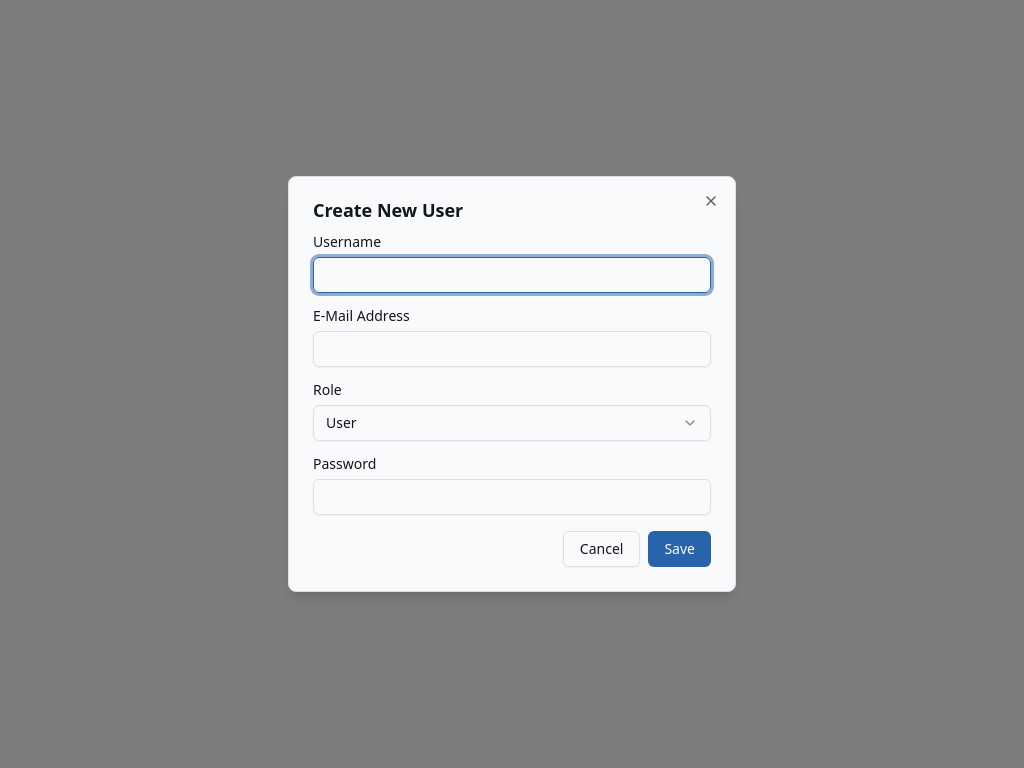
UserFormDialog › maps field errors from the api onto the fields
Type "carol" into the field labelled "Username" at (512, 275), box [313,257,711,293]
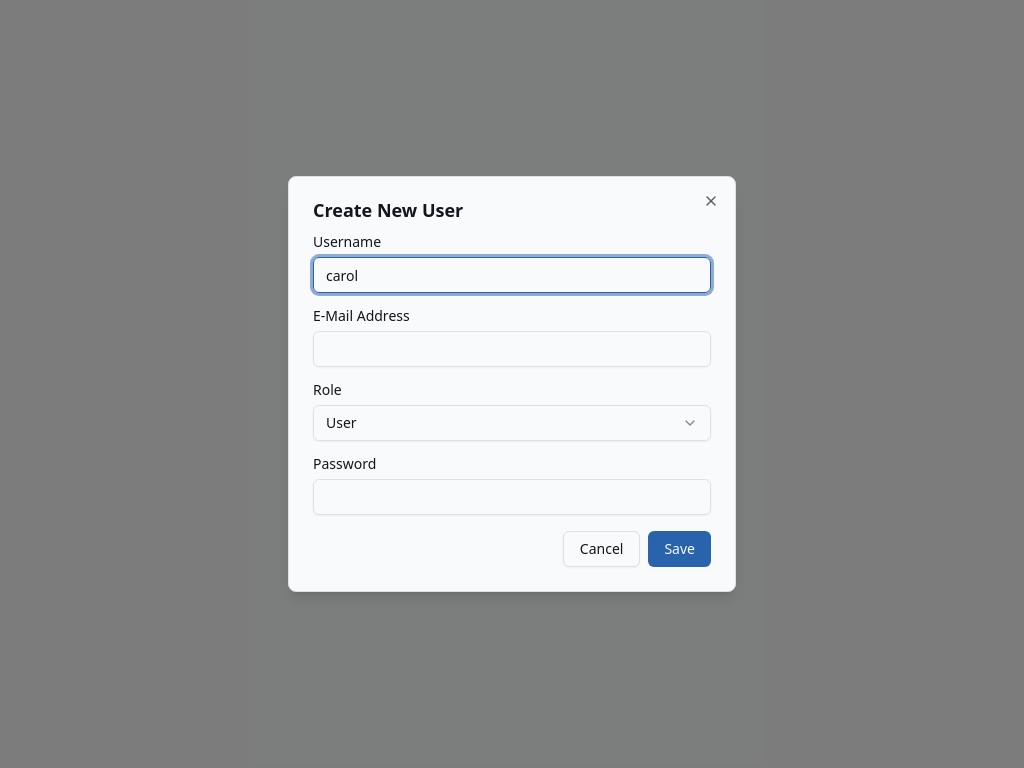
Type "carol@greyface.test" into the field labelled "E-Mail Address" at (512, 349), box [313,331,711,367]
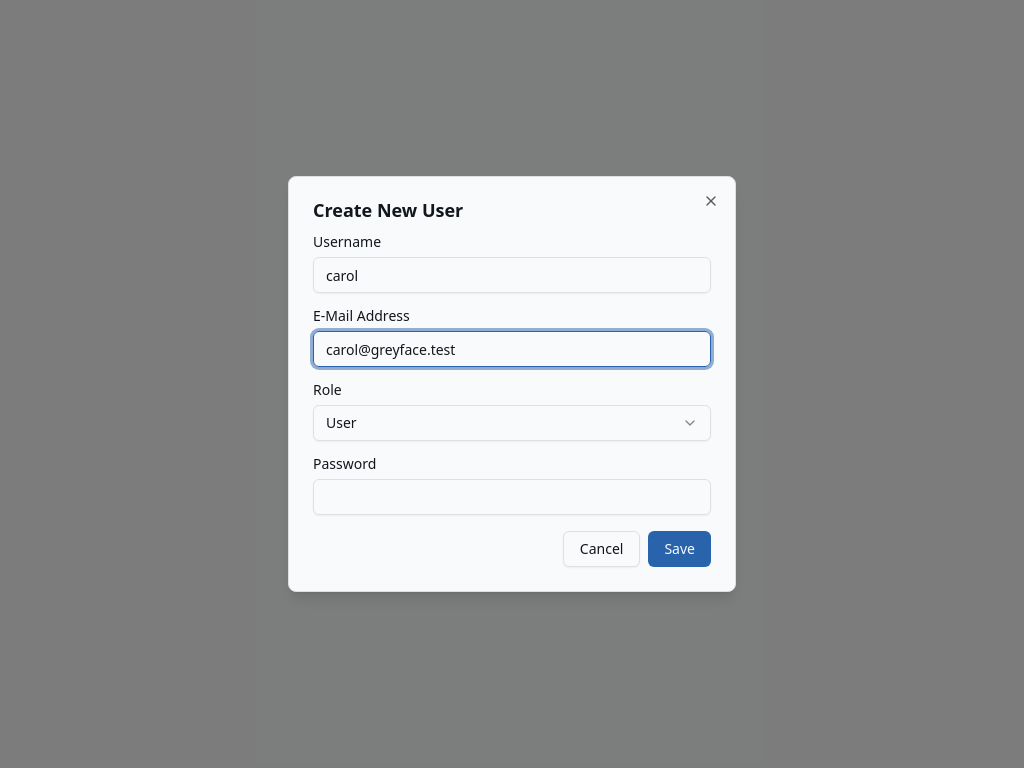
Type "sup3rsecret" into the password field labelled "Password" at (512, 497), box [313,479,711,515]
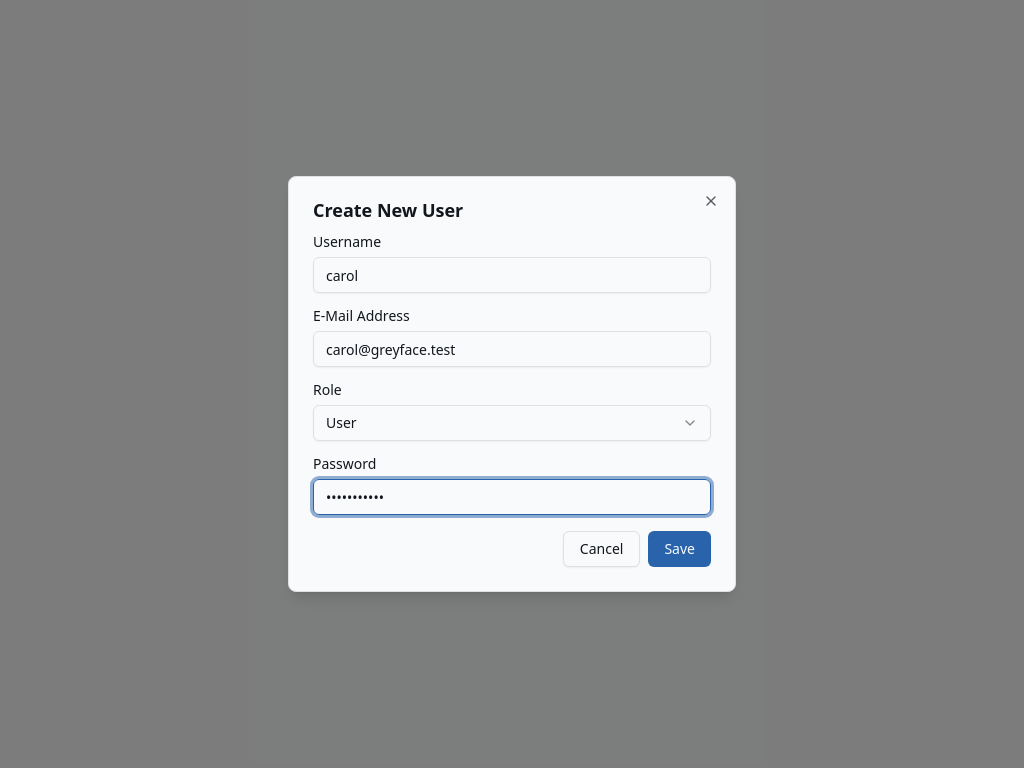
Click the button "Save" at (680, 549), box [648,531,711,567]
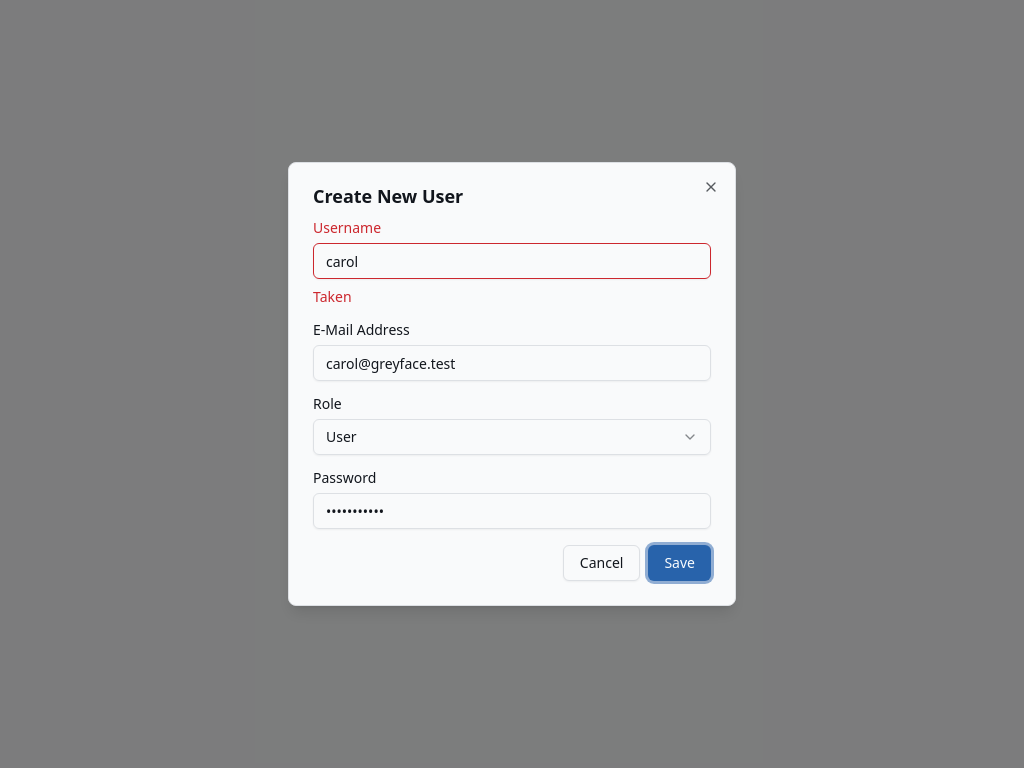
Check: the text "Taken" is shown, box [313,287,352,306]
